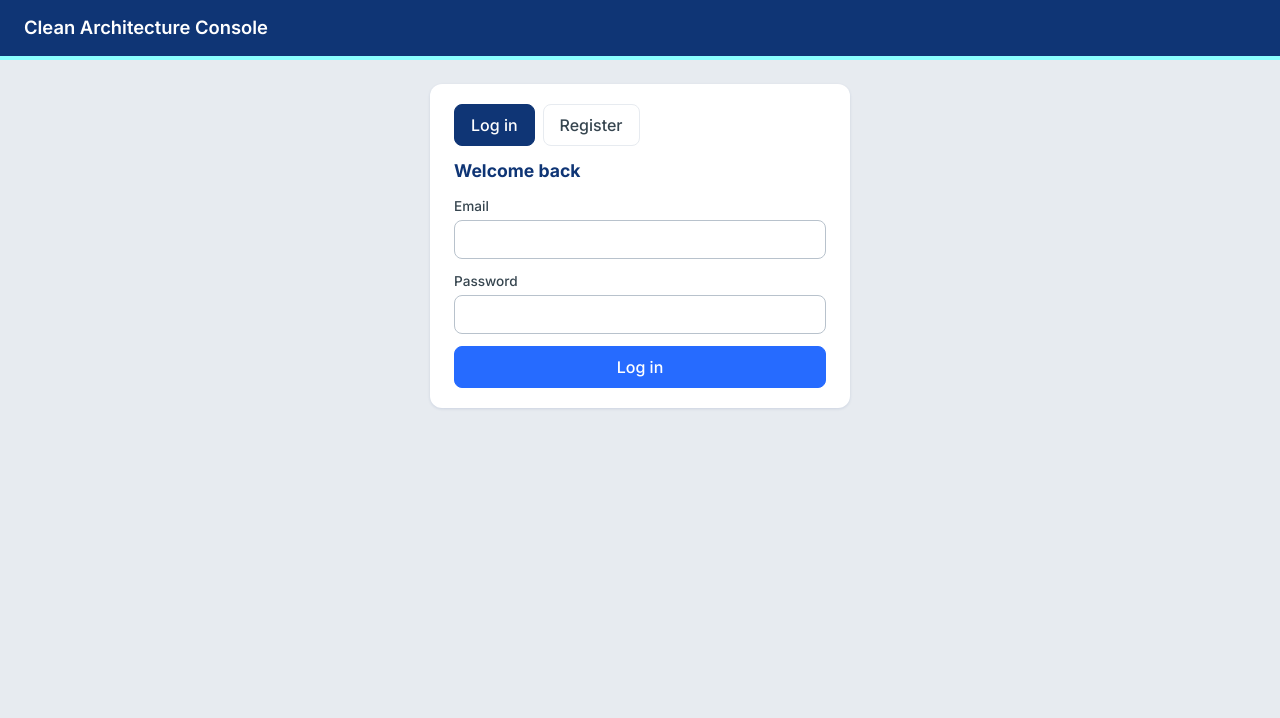
it: mc01 admin logs in › shows the profile and the first page of users
Type "admin@example.com" into the field labelled "Email".
click(640, 240); type("admin@example.com")  # box [454, 220, 826, 259]
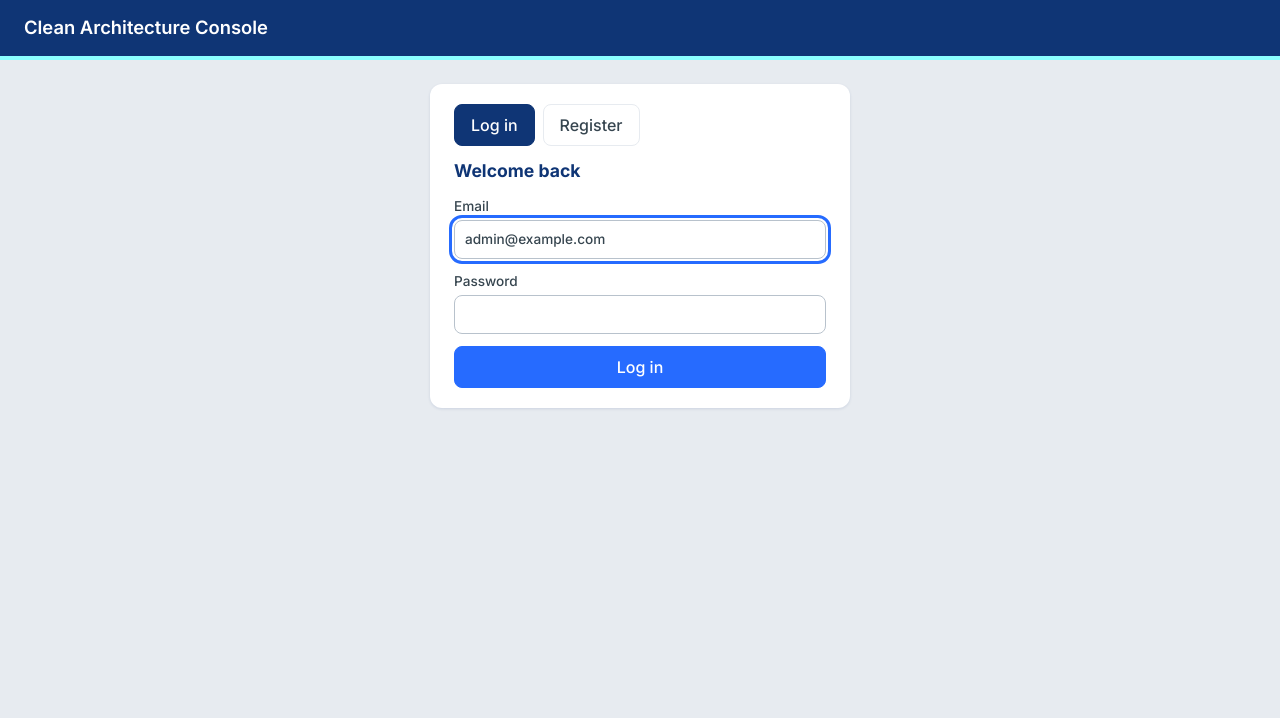
Type "Passw0rd!" into the password field labelled "Password".
click(640, 314); type("Passw0rd!")  # box [454, 295, 826, 334]
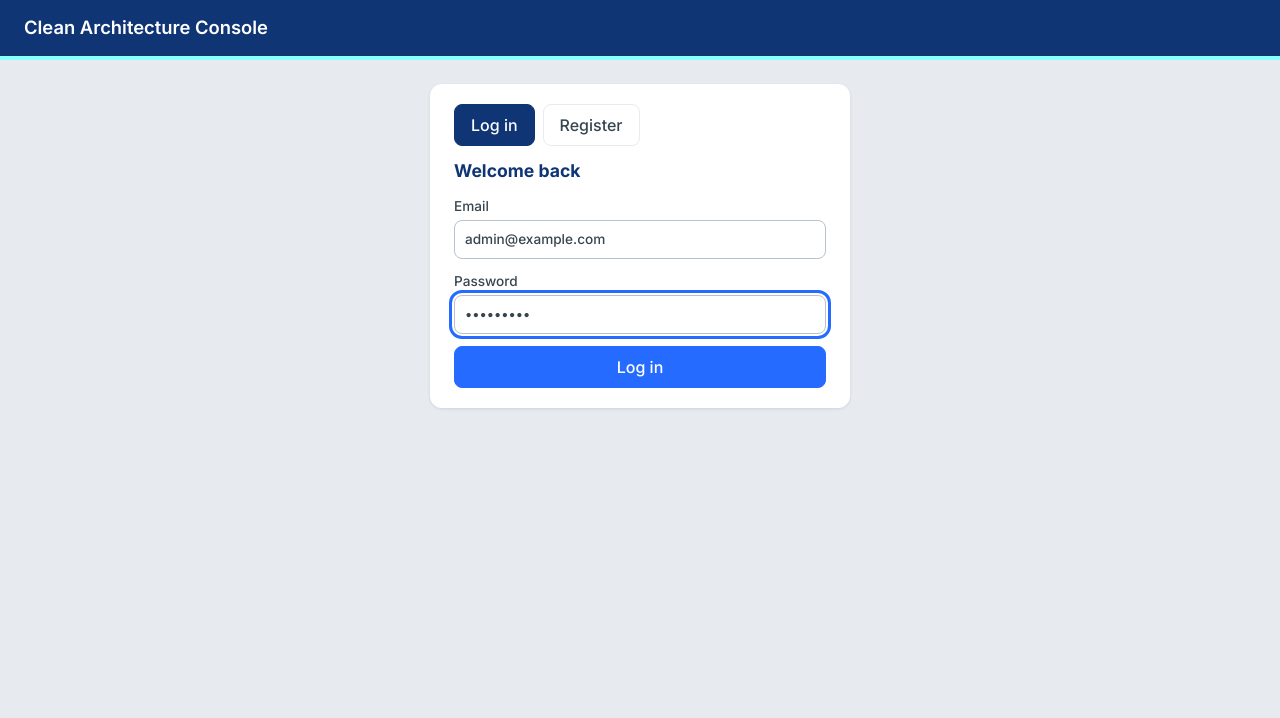
Click the button "Log in".
click(640, 367)  # box [454, 346, 826, 388]
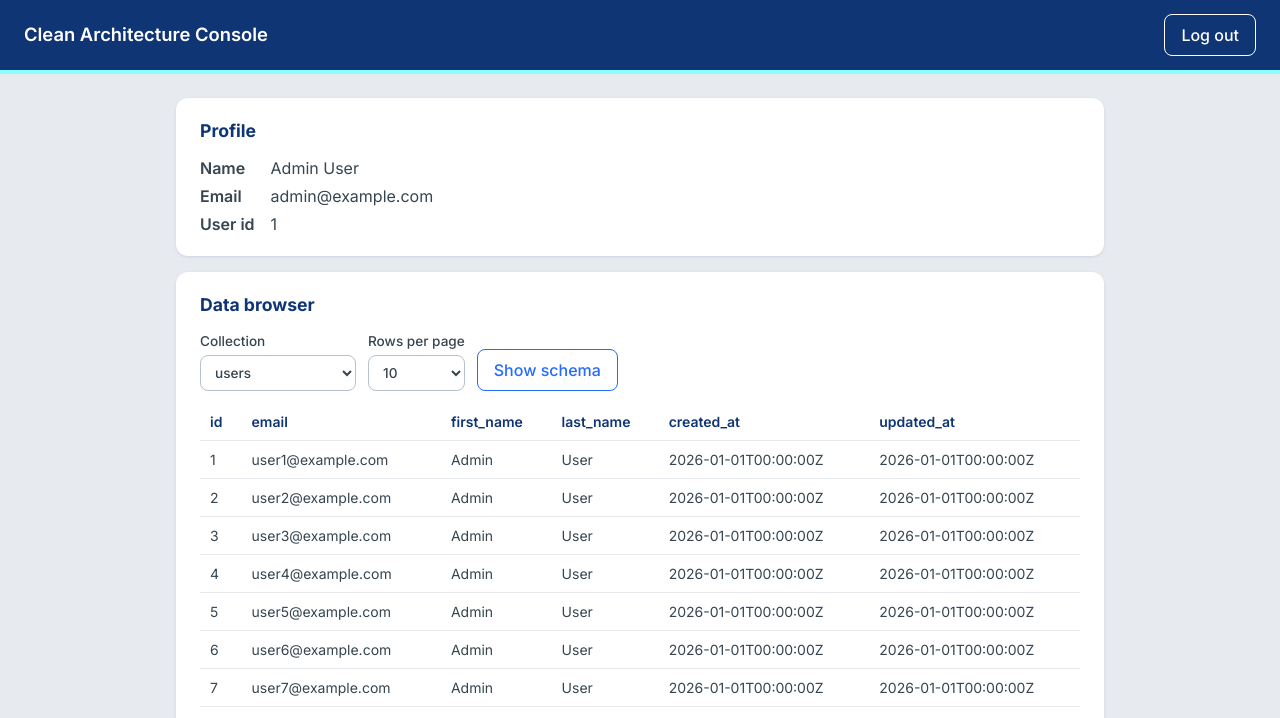
Result: the heading "Profile" is shown at [200, 120, 256, 141]
Result: the text "Admin User" is shown at [271, 158, 359, 178]
Result: the text "user1@example.com" is shown at [242, 441, 441, 479]
